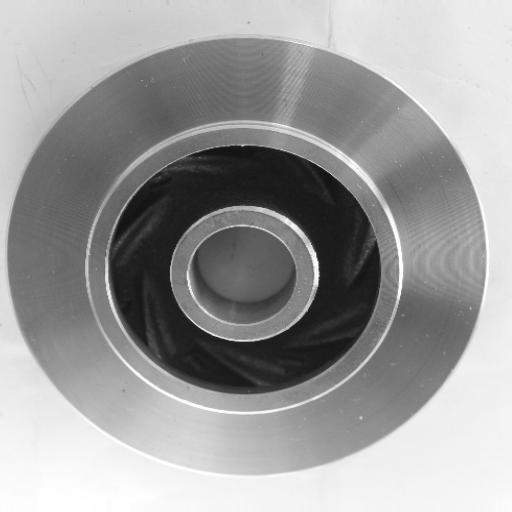polished_casting: (8, 35, 489, 477)
